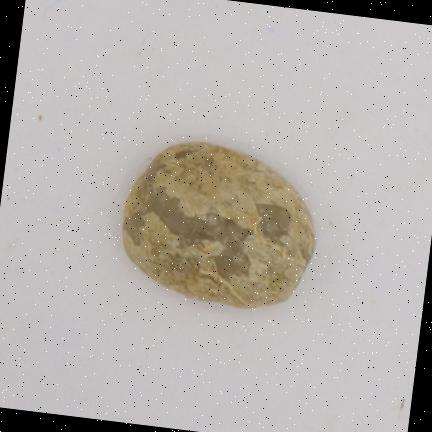husk: (124, 143, 314, 305)
